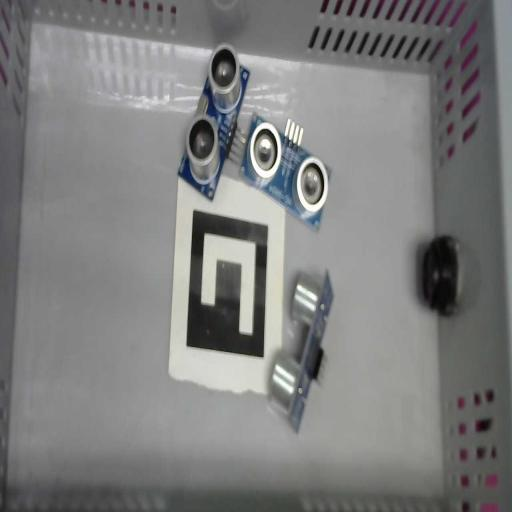QR: (168, 172, 286, 396)
ultrasonic_hc-sr04: (178, 42, 250, 200), (238, 112, 332, 231), (268, 268, 334, 435)
